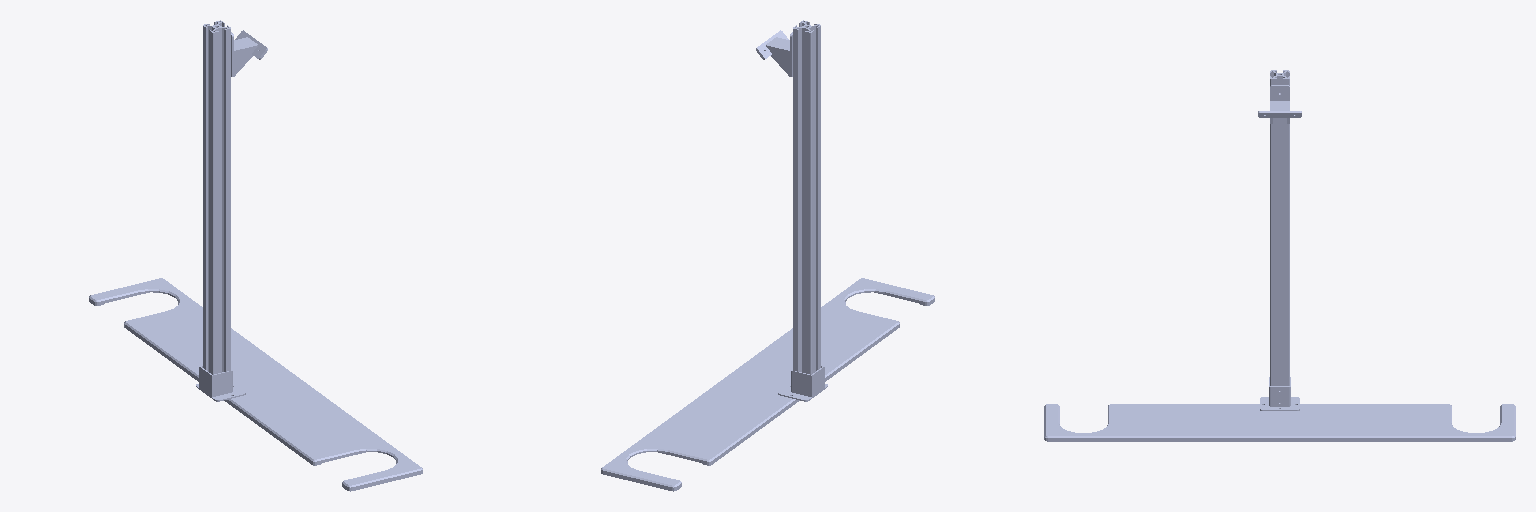
The robot description file, URDF, robot "dual_piper_v2":
<?xml version="1.0" encoding="utf-8"?>
<!-- This URDF was automatically created by SolidWorks to URDF Exporter! Originally created by [author] ([email redacted]) 
     Commit Version: 1.6.0-4-g7f85cfe  Build Version: 1.6.7995.38578
     For more information, please see http://wiki.ros.org/sw_urdf_exporter -->
<robot
  name="dual_piper_v2">
  <link
    name="base_link">
    <inertial>
      <origin
        xyz="-0.00027232 2.5804E-17 -0.0039833"
        rpy="0 0 0" />
      <mass
        value="0.56085" />
      <inertia
        ixx="0.018199"
        ixy="-1.4523E-18"
        ixz="-4.6233E-07"
        iyy="0.00069652"
        iyz="-1.8657E-20"
        izz="0.018889" />
    </inertial>
    <visual>
      <origin
        xyz="0 0 0"
        rpy="0 0 0" />
      <geometry>
        <mesh
          filename="package://dual_piper_v2/meshes/base_link.STL" />
      </geometry>
      <material
        name="">
        <color
          rgba="0.79216 0.81961 0.93333 1" />
      </material>
    </visual>
    <collision>
      <origin
        xyz="0 0 0"
        rpy="0 0 0" />
      <geometry>
        <mesh
          filename="package://dual_piper_v2/meshes/base_link.STL" />
      </geometry>
    </collision>
  </link>
  <link
    name="lifting_camera_Link">
    <inertial>
      <origin
        xyz="0.018474 0 -0.0010785"
        rpy="0 0 0" />
      <mass
        value="0.029549" />
      <inertia
        ixx="7.8329E-06"
        ixy="-6.0628E-21"
        ixz="-6.2532E-07"
        iyy="9.7867E-06"
        iyz="4.8633E-21"
        izz="1.0227E-05" />
    </inertial>
    <visual>
      <origin
        xyz="0 0 0"
        rpy="0 0 0" />
      <geometry>
        <mesh
          filename="package://dual_piper_v2/meshes/lifting_camera_Link.STL" />
      </geometry>
      <material
        name="">
        <color
          rgba="0.79216 0.81961 0.93333 1" />
      </material>
    </visual>
    <collision>
      <origin
        xyz="0 0 0"
        rpy="0 0 0" />
      <geometry>
        <mesh
          filename="package://dual_piper_v2/meshes/lifting_camera_Link.STL" />
      </geometry>
    </collision>
  </link>
  <joint
    name="lifting_camera_joint"
    type="fixed">
    <origin
      xyz="-0.049086 0 0.51148"
      rpy="0 0 0" />
    <parent
      link="base_link" />
    <child
      link="lifting_camera_Link" />
    <axis
      xyz="0 0 0" />
  </joint>
</robot>

--- What the picture shows (computed from the rendered views, not written in the file) ---
3 views of the same robot in one strip: view 1: azimuth 30°, elevation 25°; view 2: azimuth 150°, elevation 25°; view 3: azimuth 270°, elevation 25° (orthographic).
Model dual_piper_v2 with 2 links and 1 joints (1 fixed), rooted at base_link, posed all joints at 0.
Visible links, largest first — view 1: base_link, lifting_camera_Link; view 2: base_link, lifting_camera_Link; view 3: base_link, lifting_camera_Link.
Link boxes in pixels (x1,y1,x2,y2): base_link: (89, 20, 422, 491); lifting_camera_Link: (231, 30, 267, 76); base_link: (601, 20, 934, 491); lifting_camera_Link: (756, 30, 792, 76); base_link: (1044, 70, 1515, 441); lifting_camera_Link: (1258, 85, 1301, 123).
Size in the robot's own frame: 0.14 by 0.72 by 0.562 metres.
2 mesh visuals loaded from 2 distinct referenced files (2 binary STL).